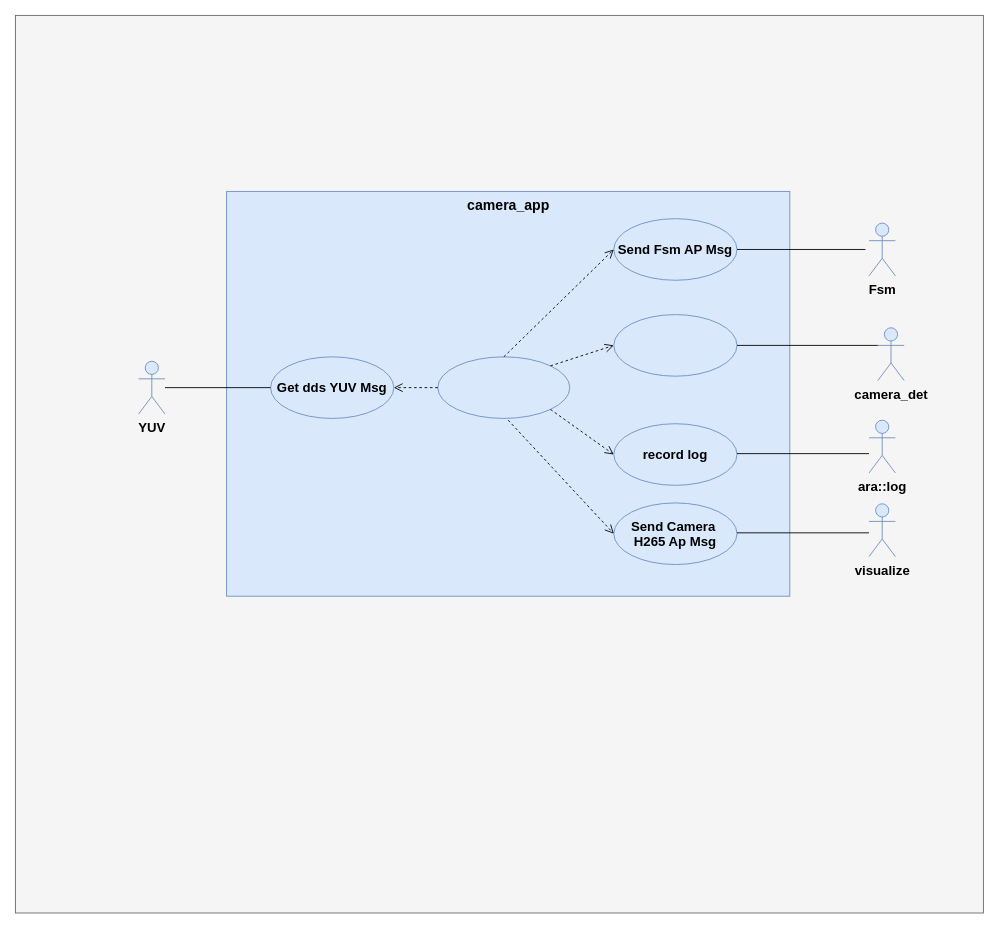
This 999x928 diagram has some shape labels left out. Each missing label, with the centre of its shape:
camera_app Process: point (503, 387)
Send Camera YUV AP Msg: point (675, 345)
